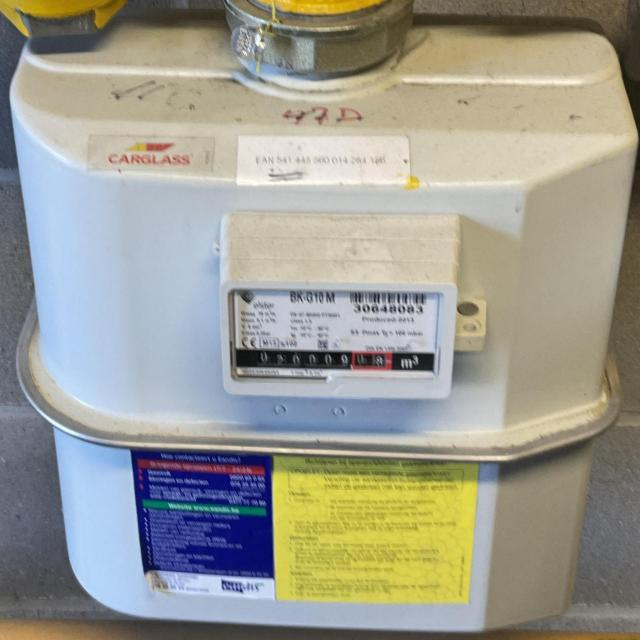gaz_meter: (235, 292, 433, 378)
indication: (249, 348, 399, 371)
